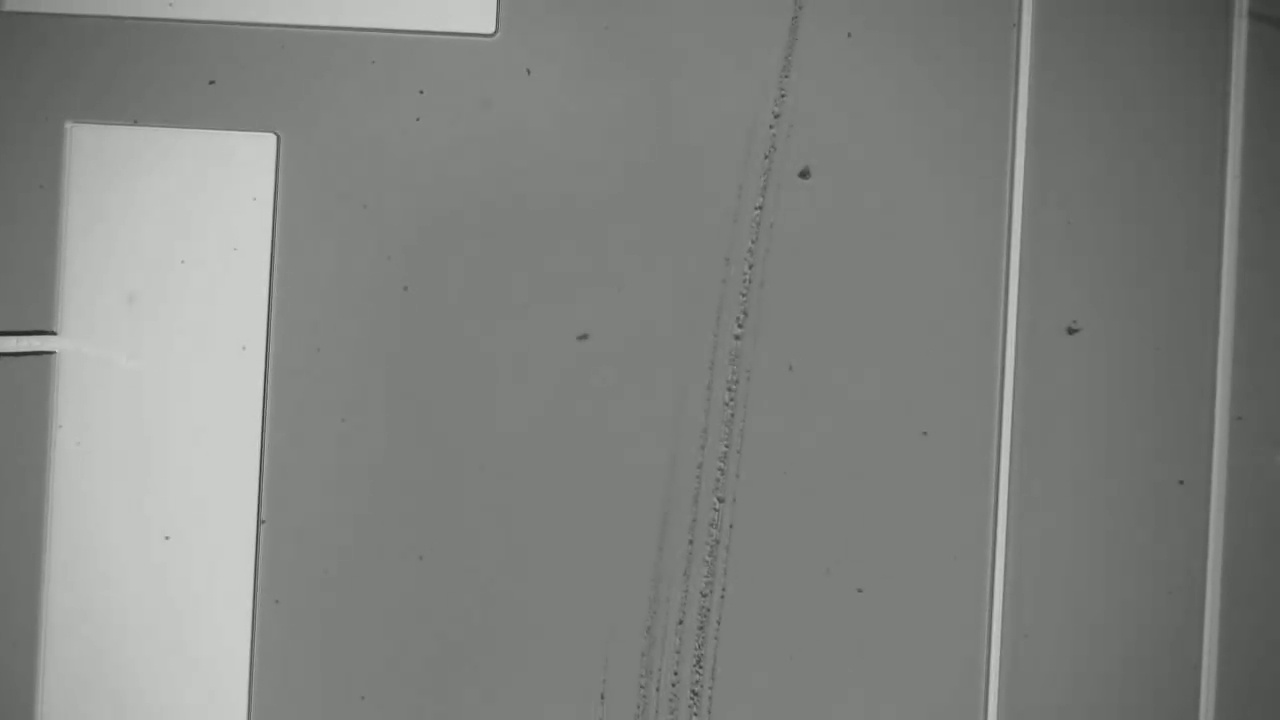Short_circuit: (0, 304, 87, 380)
scratch: (592, 7, 795, 707)
